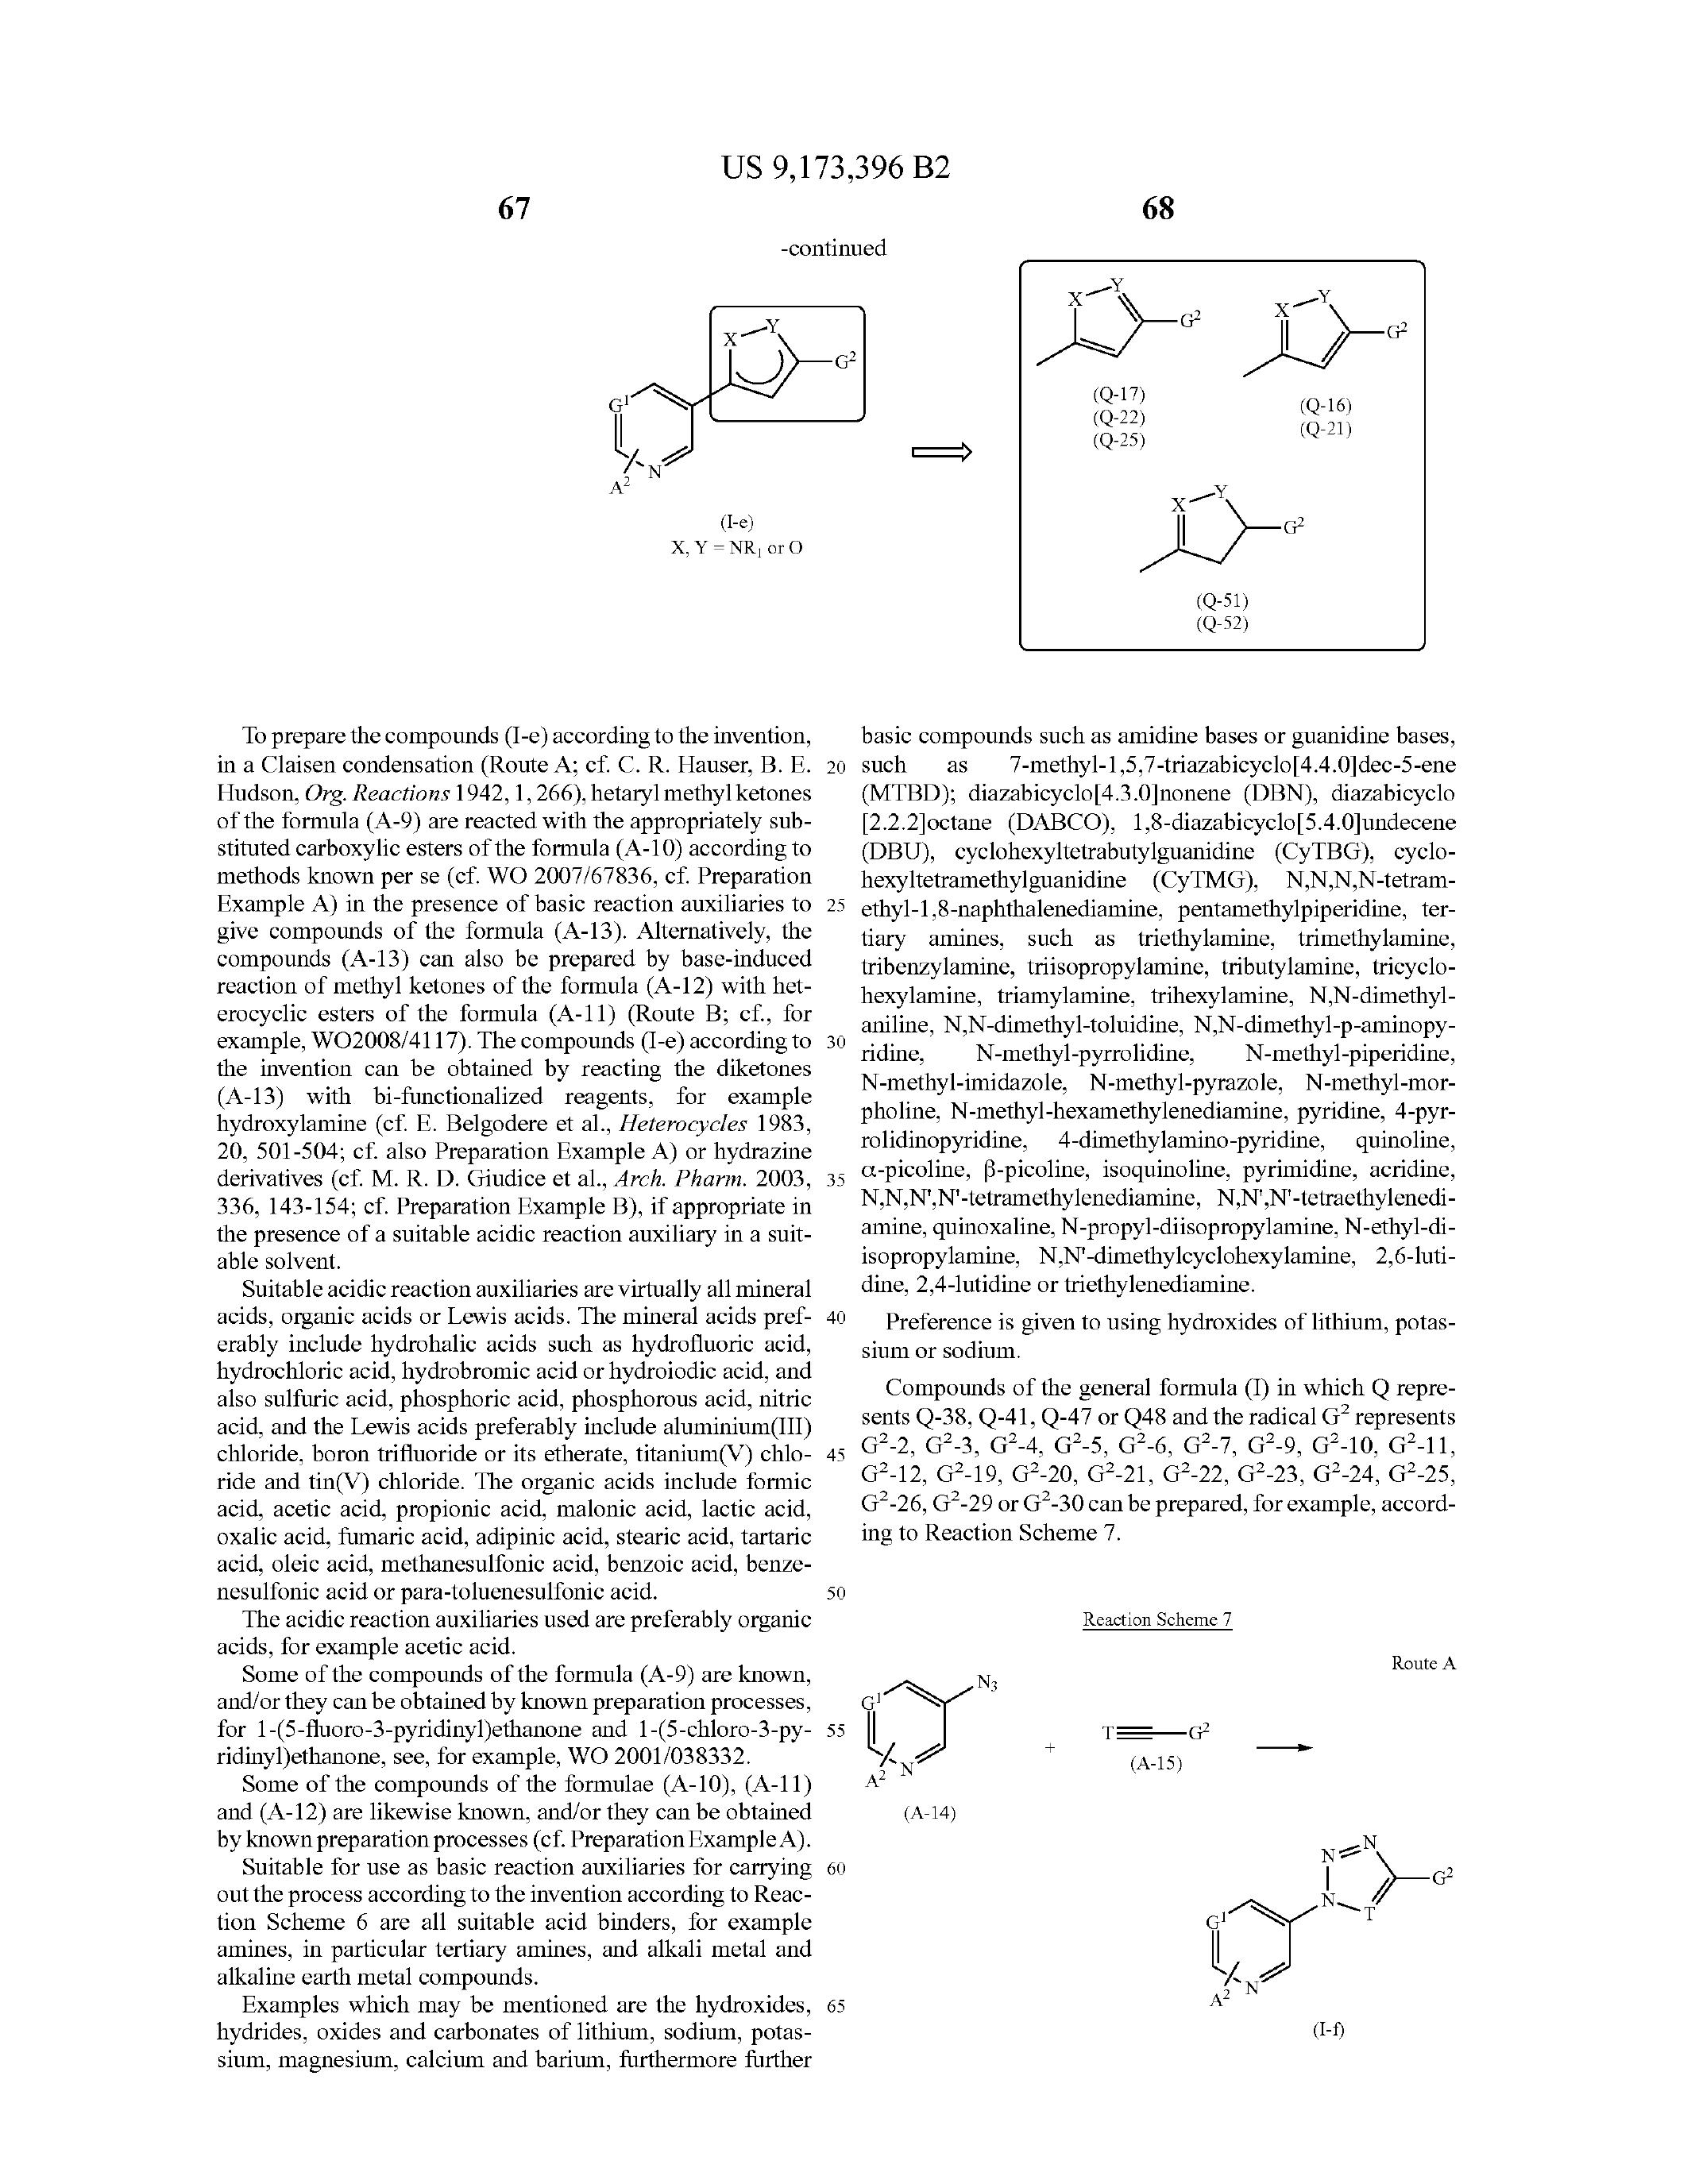reactions: (434, 215, 1519, 667), (842, 1565, 1539, 2060)
